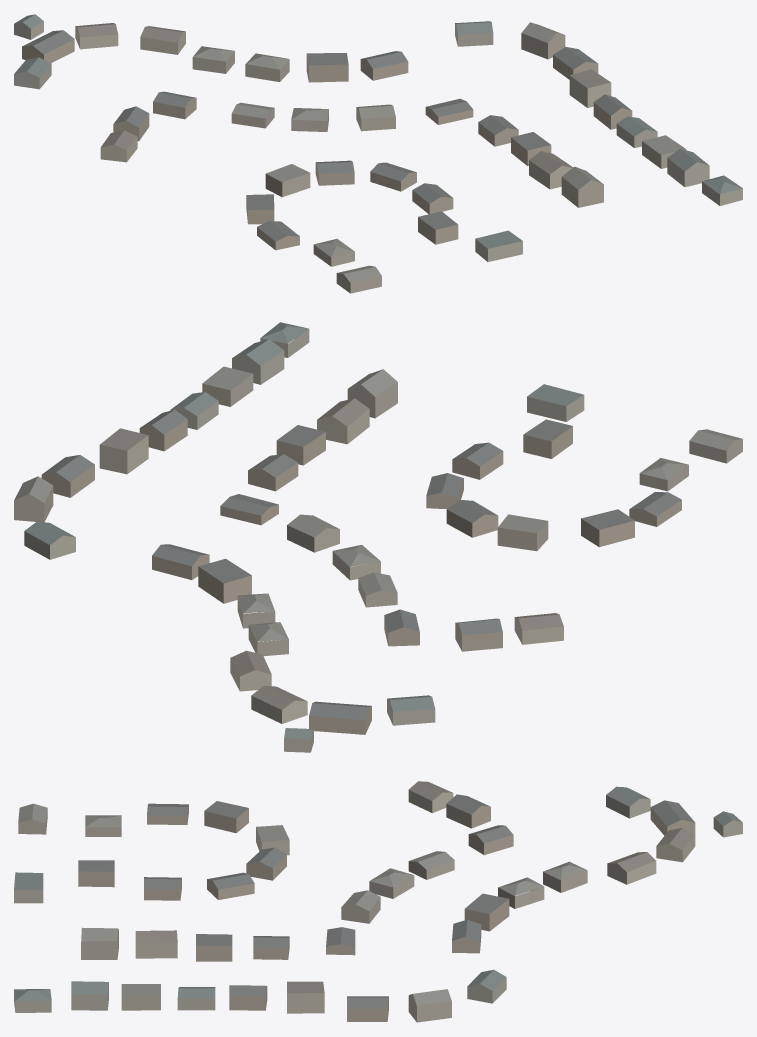
The model's file is 5f2f29a2a982-chunk-1203_11846.glb.
3 views of the same model, one above another, from view 1: azimuth 30°, elevation 25°; view 2: azimuth 150°, elevation 25°; view 3: azimuth 270°, elevation 25° (orthographic). The views are drawn at different scales.
Visible parts, largest first — view 1: building_105113, building_14111, building_31856, building_105260, building_149444, building_49066, building_109189, building_109801, building_109828, building_171413, building_43274, building_159085 (+27 smaller); view 2: building_105260, building_49066, building_14111, building_109828, building_109189, building_105113, building_31856, building_109801, building_36726, building_7511, building_147056, building_159085 (+27 smaller); view 3: building_49066, building_149444, building_109828, building_14111, building_105113, building_43274, building_31856, building_86614, building_7511, building_147056, building_105260, building_65896 (+27 smaller).
Boxes of the visible parts, x1,y1,x2,y2 form: building_105113: (561, 166, 603, 207); building_14111: (306, 53, 348, 82); building_31856: (667, 148, 709, 187); building_105260: (22, 30, 74, 62); building_149444: (521, 22, 565, 59); building_49066: (569, 69, 611, 107); building_109189: (475, 230, 522, 261); building_109801: (265, 164, 310, 197); building_109828: (529, 151, 572, 189); building_171413: (360, 51, 408, 80); building_43274: (140, 26, 185, 54); building_159085: (418, 211, 458, 244); building_105260: (309, 701, 371, 734); building_49066: (99, 428, 148, 474); building_14111: (198, 558, 251, 603); building_109828: (317, 398, 369, 444); building_109189: (527, 384, 584, 421); building_105113: (347, 369, 397, 418); building_31856: (232, 339, 284, 384); building_109801: (497, 514, 548, 551); building_36726: (251, 685, 307, 723); building_7511: (581, 509, 634, 547); building_147056: (41, 455, 94, 497); building_159085: (523, 419, 572, 458); building_49066: (287, 981, 324, 1013); building_149444: (408, 989, 451, 1022); building_109828: (135, 930, 177, 958); building_14111: (464, 893, 509, 931); building_105113: (81, 927, 118, 959); building_43274: (607, 852, 656, 884); building_31856: (71, 981, 108, 1010); building_86614: (446, 794, 490, 828); building_7511: (204, 801, 248, 833); building_147056: (347, 996, 388, 1021); building_105260: (650, 800, 695, 835); building_65896: (121, 984, 160, 1010).
Size of the model in its own units: 174 by 9.2 by 234.
